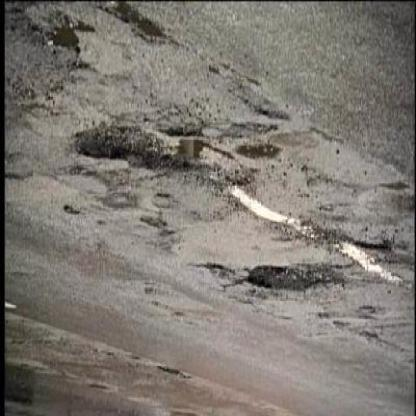pothole: (74, 122, 258, 195), (246, 262, 348, 295), (97, 4, 172, 48), (30, 8, 97, 56)
